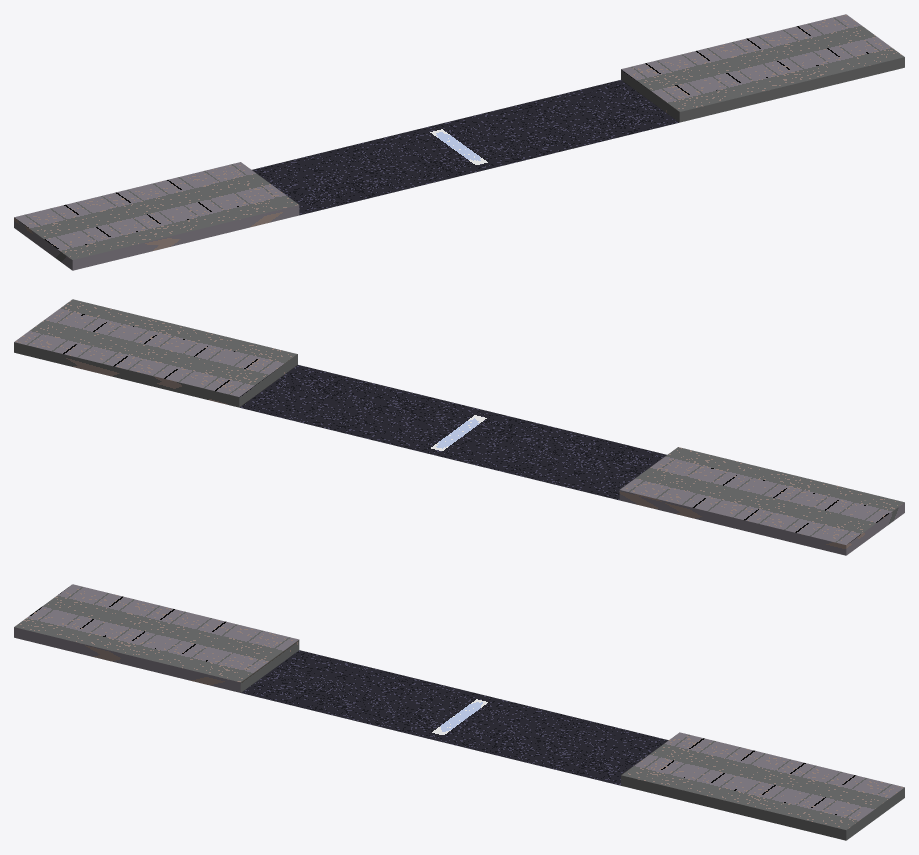
Rendered from road_0_mesh.glb.
3 views of the same model, one above another, from view 1: azimuth 30°, elevation 25°; view 2: azimuth 150°, elevation 25°; view 3: azimuth 330°, elevation 25° (orthographic).
Visible parts, largest first — view 1: Plane; view 2: Plane; view 3: Plane.
Part boxes in pixels (x1,y1,x2,y2): Plane: (14,14,904,270); Plane: (14,299,904,555); Plane: (14,584,904,840).
Bounding box in the file's own units: 16.39 × 0.1987 × 2.
1 material, 1 textured.
